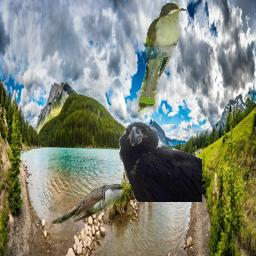Crow: (118, 121, 202, 202)
Cuckoo: (137, 2, 188, 115), (50, 183, 128, 224)
